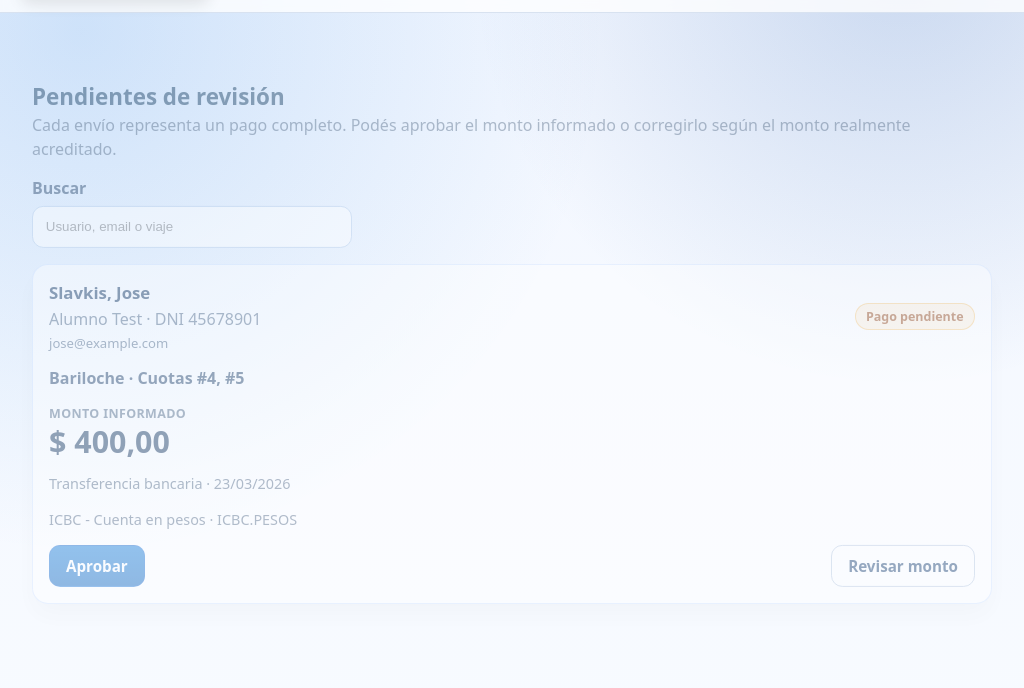
Test: PendingReviewPage › permite rechazar un pago completo con observacion
Expected: the heading "Slavkis, Jose" is shown, [49,280,150,303]
Click the button "Revisar monto": (903, 566) [831,545,975,587]
(page scrolled)
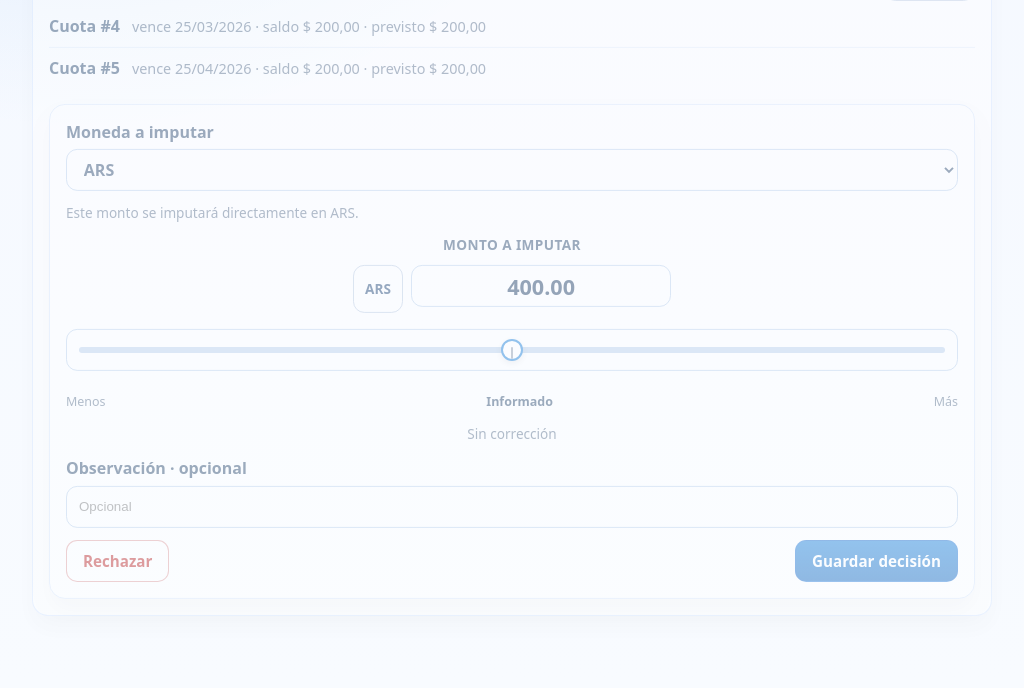
In the field labelled "Observación · opcional": (512, 507) [66,486,958,528], type "Comprobante borroso"
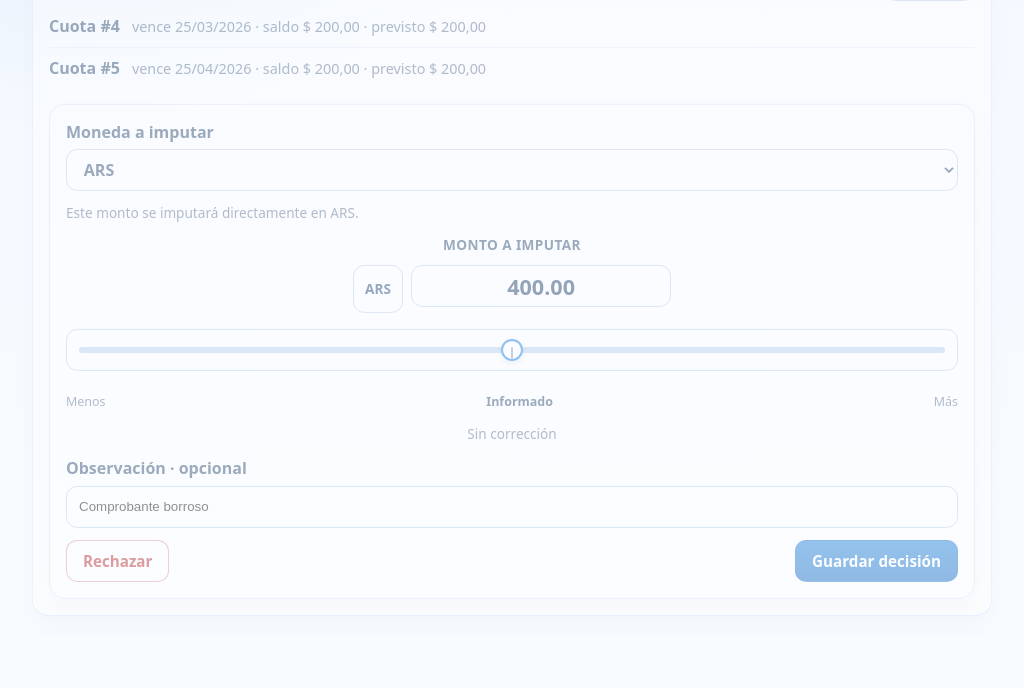
Click the button with aria-label "Rechazar total": (118, 561) [66,540,169,582]
(page scrolled)
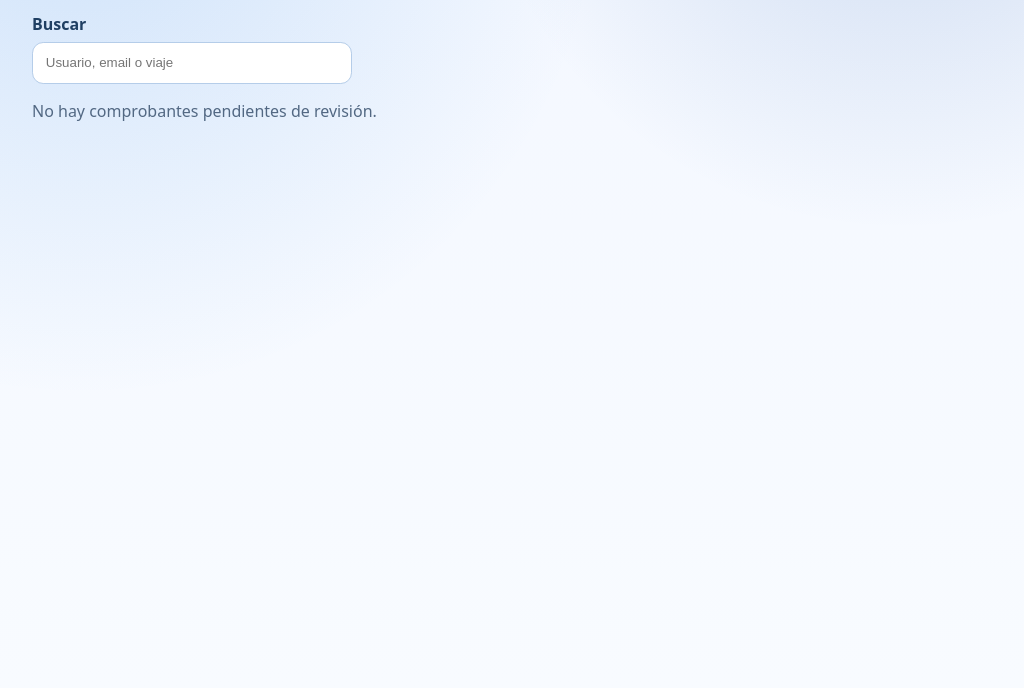
Expected: the text "No hay comprobantes pendientes de revisión." is shown, [32,100,377,122]
